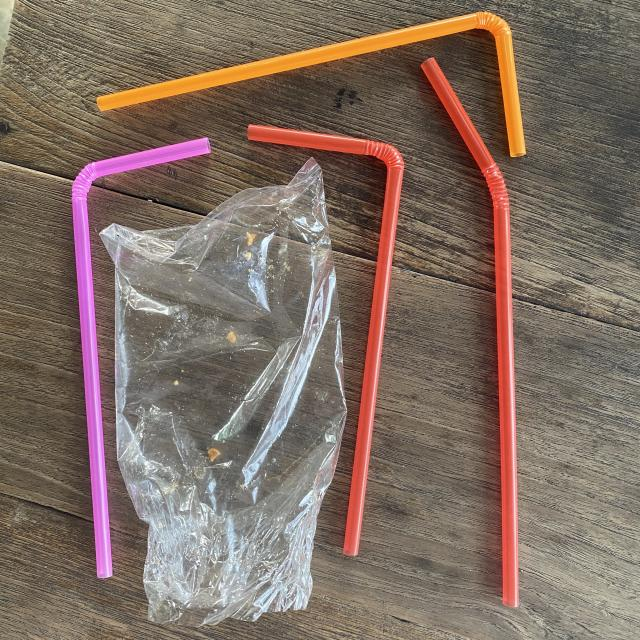Single-layer Plastic: (100, 159, 346, 626)
